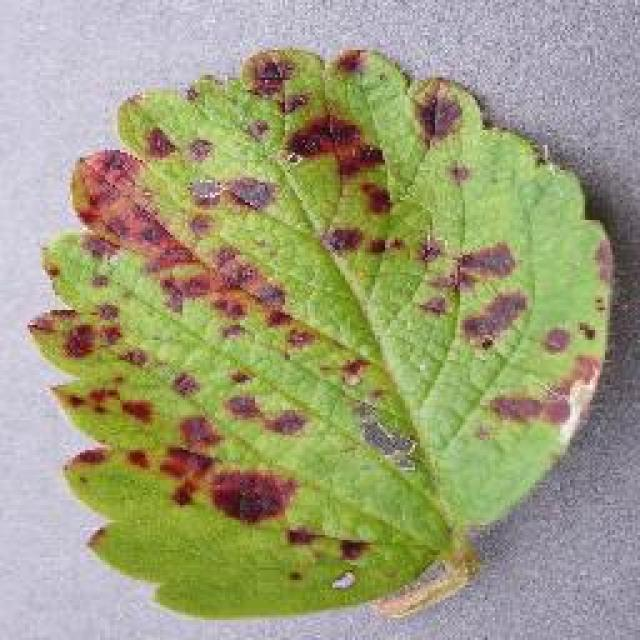Strawberry___Leaf_scorch: (10, 15, 625, 637)
